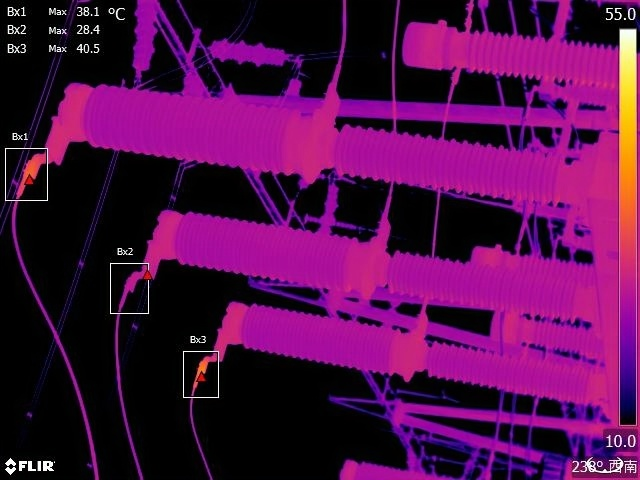circuit breaker: (42, 72, 583, 214), (127, 199, 597, 319), (205, 294, 601, 404)
current transformer: (394, 14, 619, 89), (462, 239, 603, 285), (486, 310, 604, 355)
